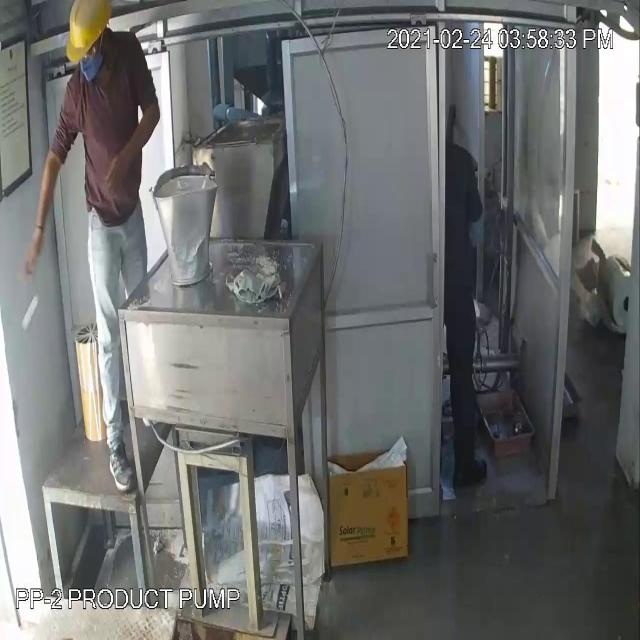helmet: (63, 1, 117, 72)
